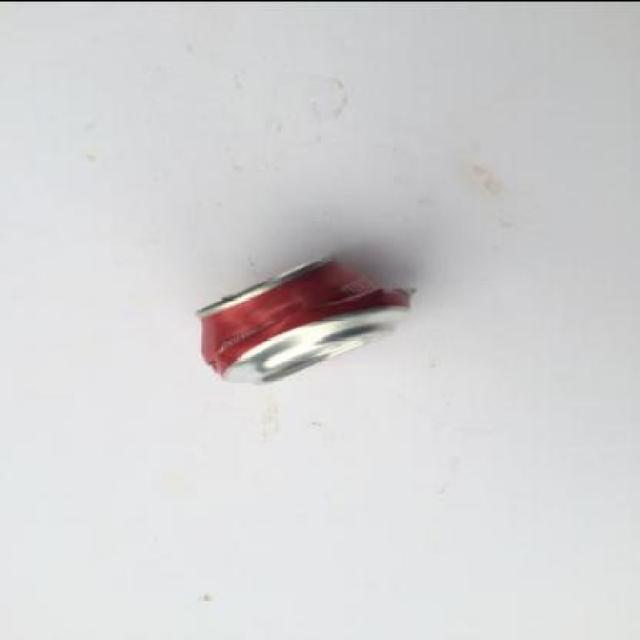METAL: (192, 253, 416, 385)
